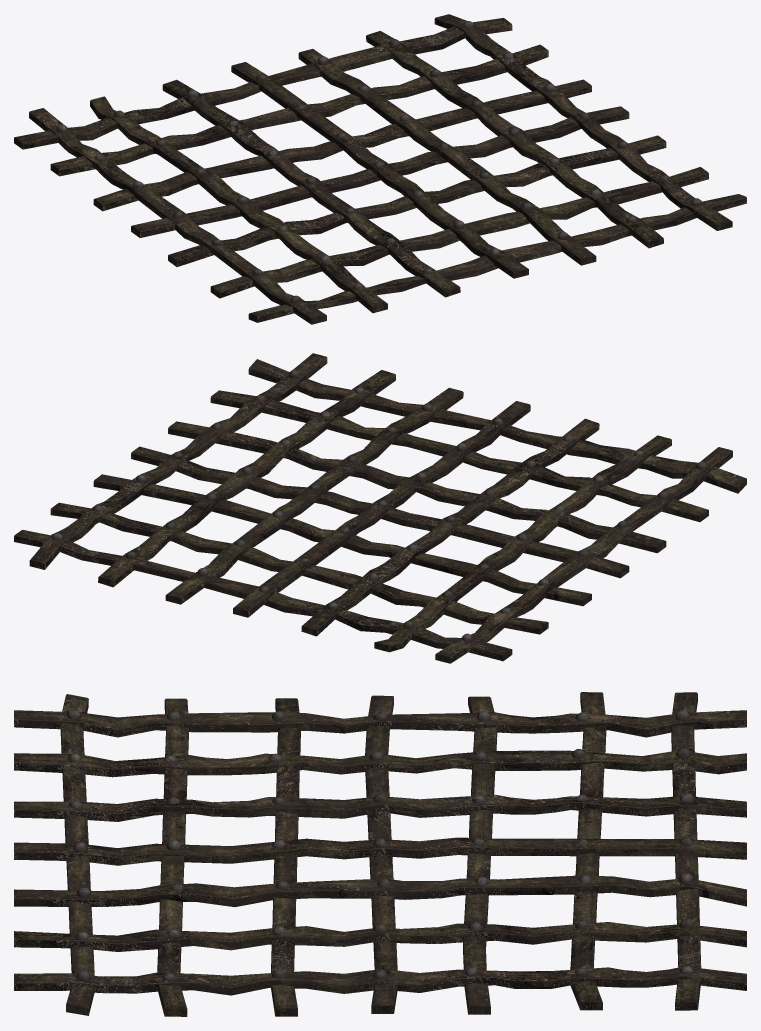
File: SM_Lattice_01_02.fbx
The picture shows the model from 3 angles, top to bottom: view 1: azimuth 30°, elevation 25°; view 2: azimuth 150°, elevation 25°; view 3: azimuth 270°, elevation 25°; orthographic projection. The views are drawn at different scales.
Parts seen in each view (by area): view 1: Lattice_01_02_LOD0; view 2: Lattice_01_02_LOD0; view 3: Lattice_01_02_LOD0.
Part boxes in pixels (left/top/right/bottom): Lattice_01_02_LOD0: left=14, top=14, right=746, bottom=324; Lattice_01_02_LOD0: left=14, top=353, right=746, bottom=663; Lattice_01_02_LOD0: left=14, top=692, right=746, bottom=1016.
Size of the model in its own units: 300 by 300 by 14.5.
